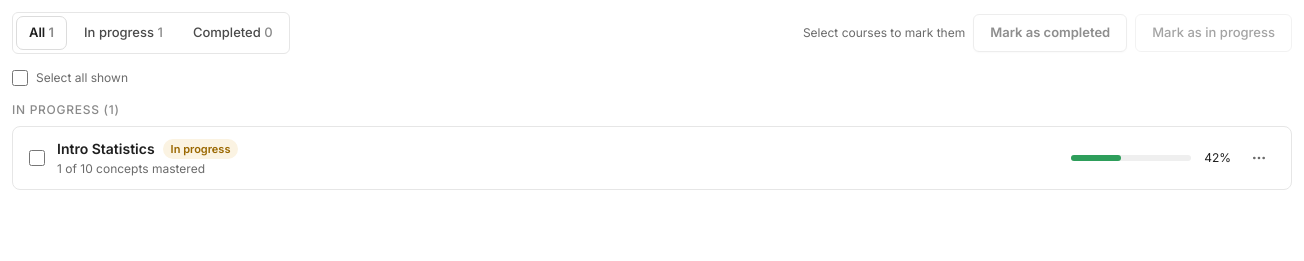
Test case: CoursesTable › shows the error and keeps the selection when the request fails
The image size is (1304, 261).
Click the checkbox named "Select Intro Statistics". click: (37, 158)
box: [29,150,45,166]
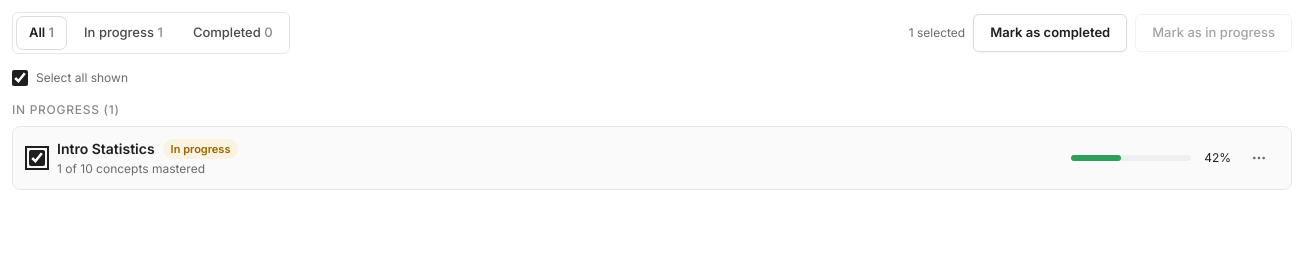
Click the button "Mark as completed". click: (1050, 33)
box: [973,14,1127,52]
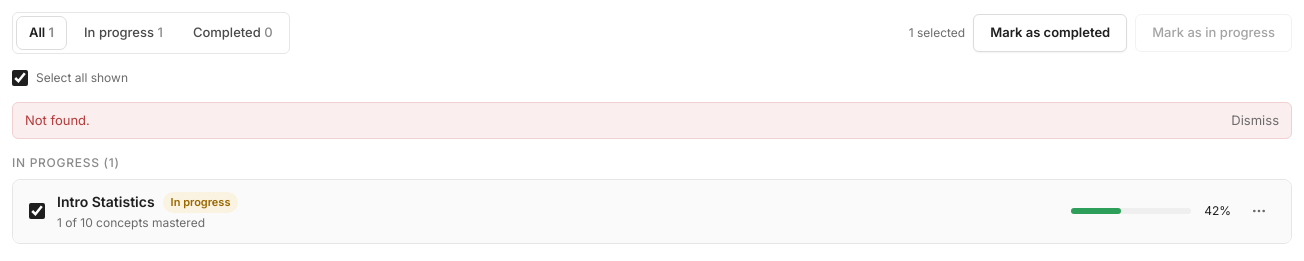
Check: the message shows "Not found.", box [25,112,90,128]
